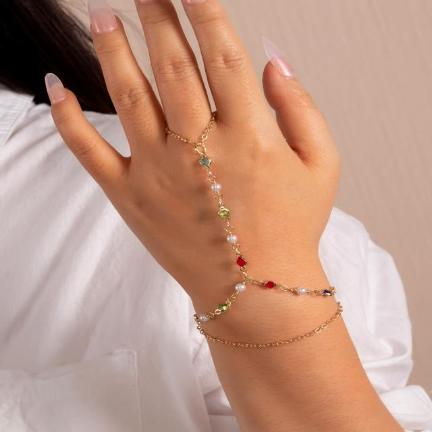Nail: (261, 36, 296, 76), (87, 0, 117, 34), (45, 73, 66, 104)
